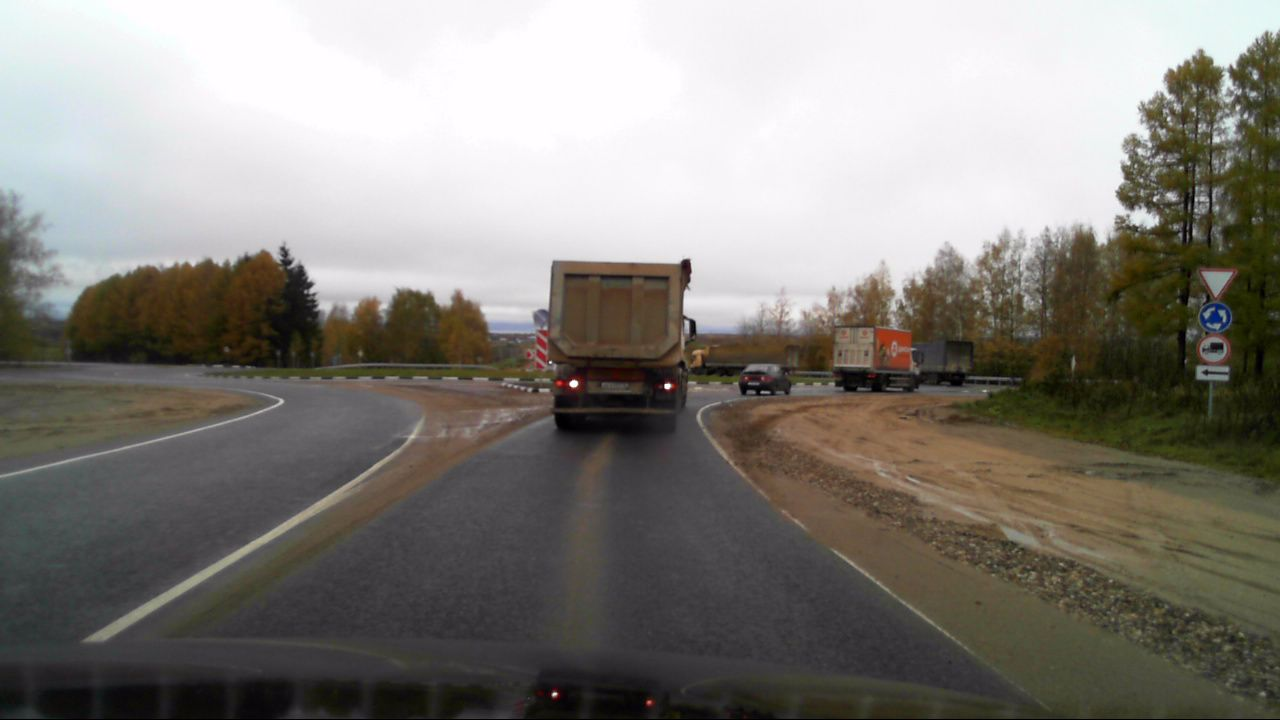Round-About: (1197, 302, 1232, 333)
